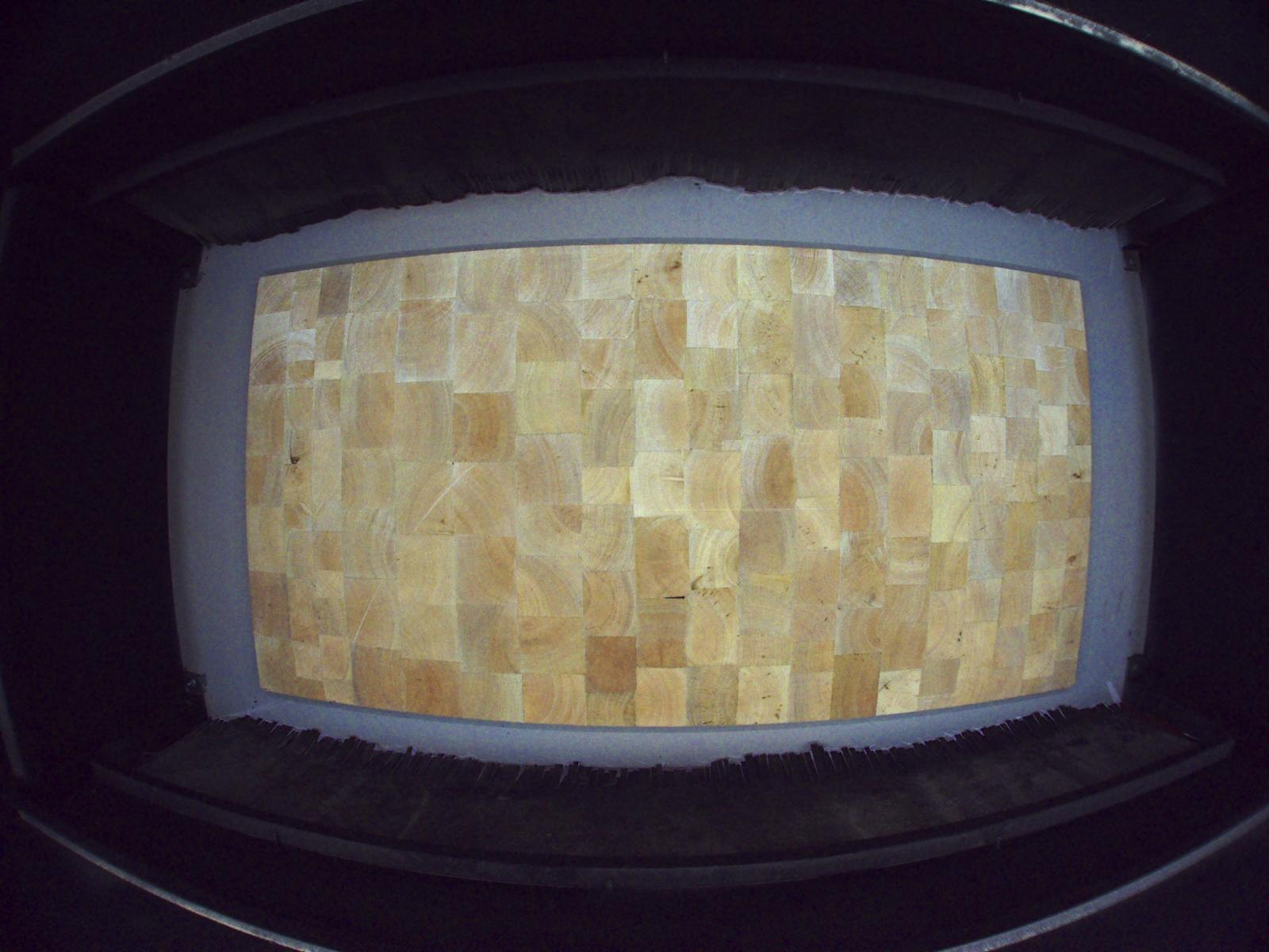sheck_ecuatoriano: (287, 428, 301, 466)
